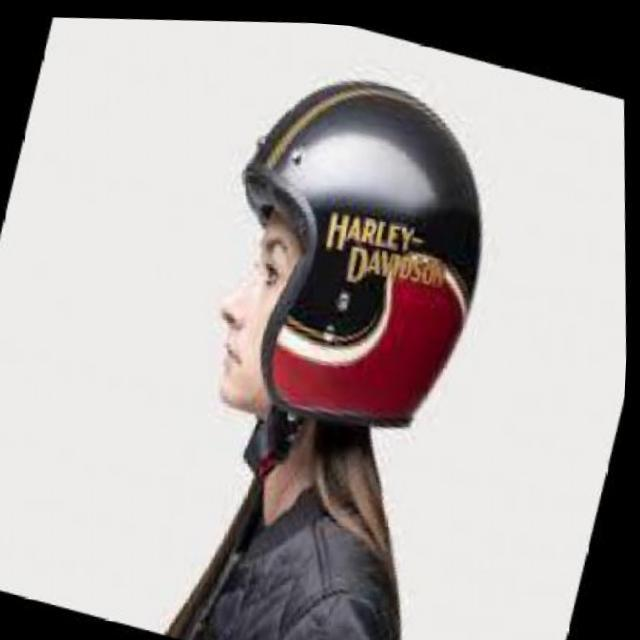Helmet: (213, 77, 486, 432)
